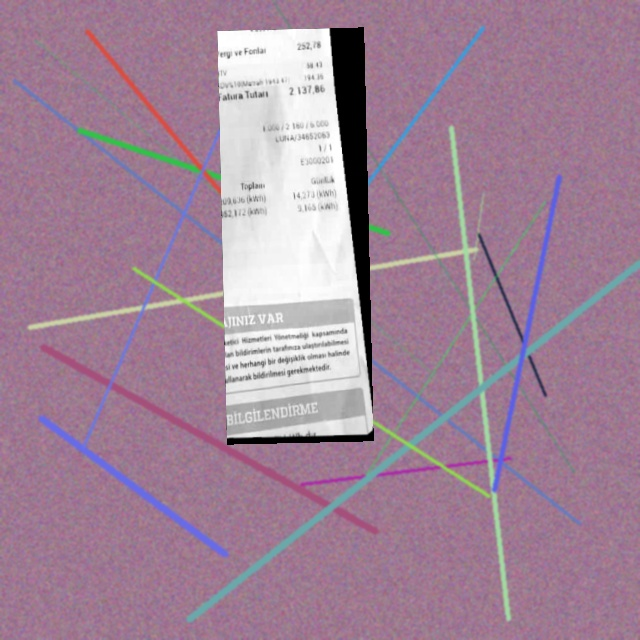electricity-bill: (217, 27, 374, 445)
